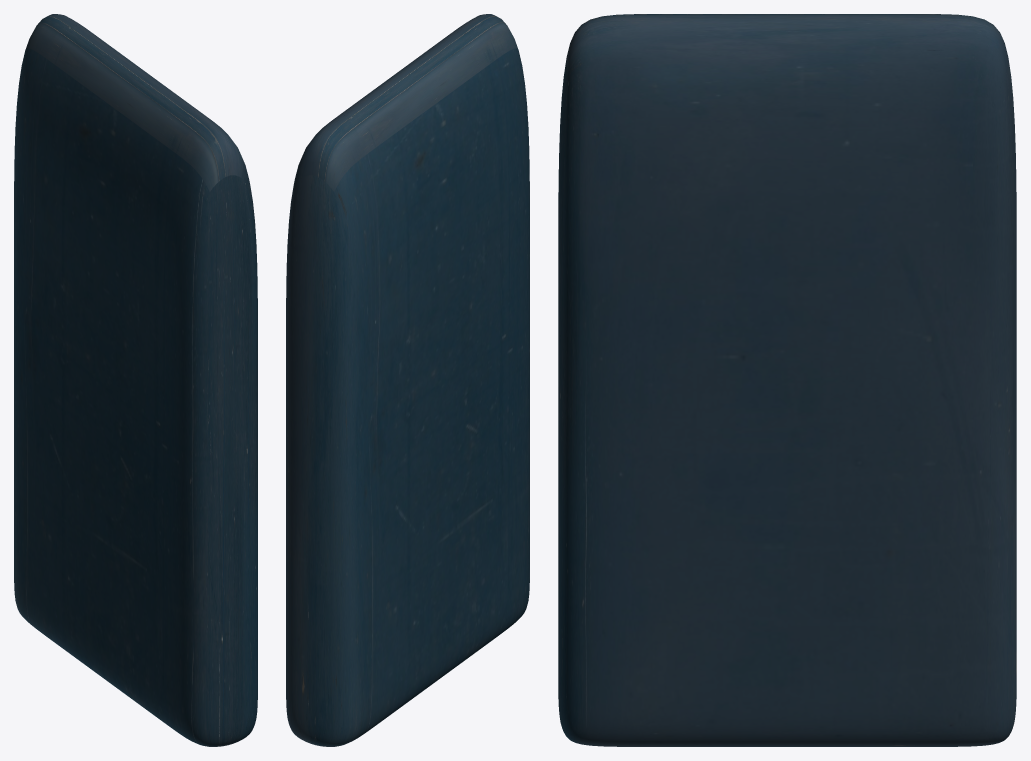
File: door1.glb
The picture shows the model from 3 angles, left to right: view 1: azimuth 30°, elevation 25°; view 2: azimuth 150°, elevation 25°; view 3: azimuth 270°, elevation 25°; orthographic projection. The views are drawn at different scales.
Parts seen in each view (by area): view 1: door; view 2: door; view 3: door.
Boxes of the visible parts, x1,y1,x2,y2 form: door: [14, 14, 257, 746]; door: [286, 14, 529, 746]; door: [558, 14, 1016, 746].
Bounding box in the file's own units: 0.1397 × 1.11 × 0.6382.
1 material, 1 textured.
